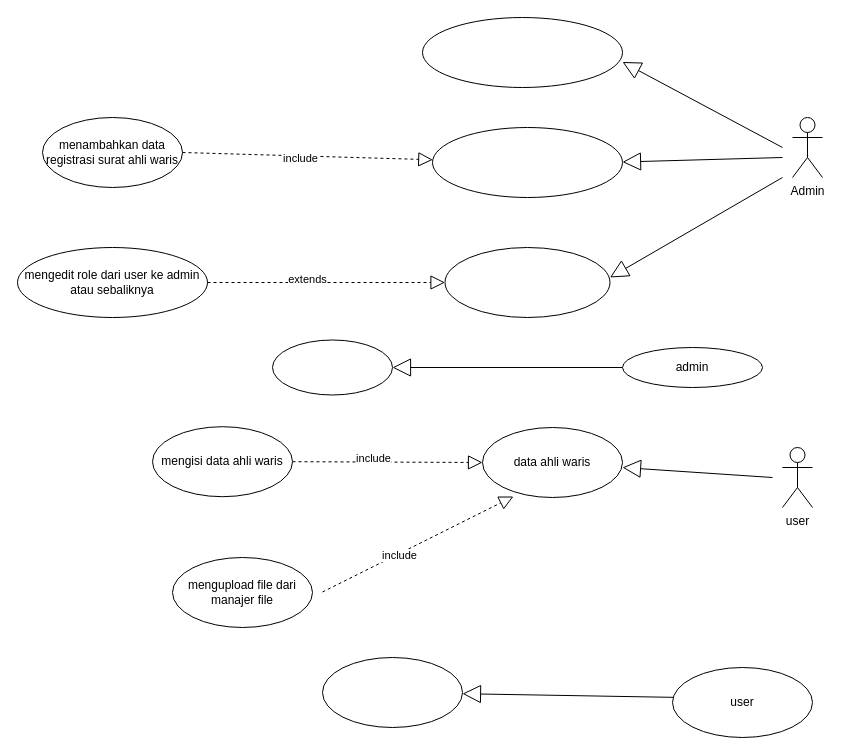
Some shapes in this 842 by 755 pixel diagram are drawn without their labels. The box of each missing label's shape, as (x1, y1, x2, y2) in pixels:
login: (272, 339, 392, 395)
login/register: (322, 656, 462, 728)
Mengelola data ahli waris: (422, 16, 622, 88)
Mengelola data user: (444, 246, 610, 318)
Mengelola registrasi surat ahli waris: (432, 126, 622, 198)
